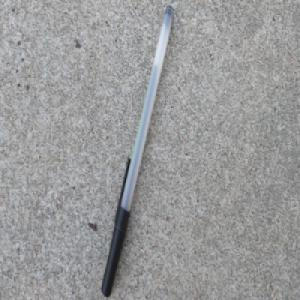Pen: (100, 3, 175, 298)
